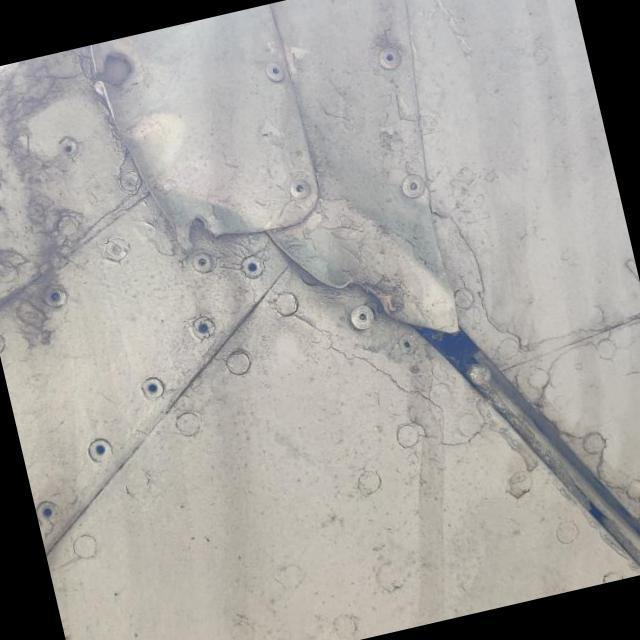Rupture: (336, 258, 405, 329)
